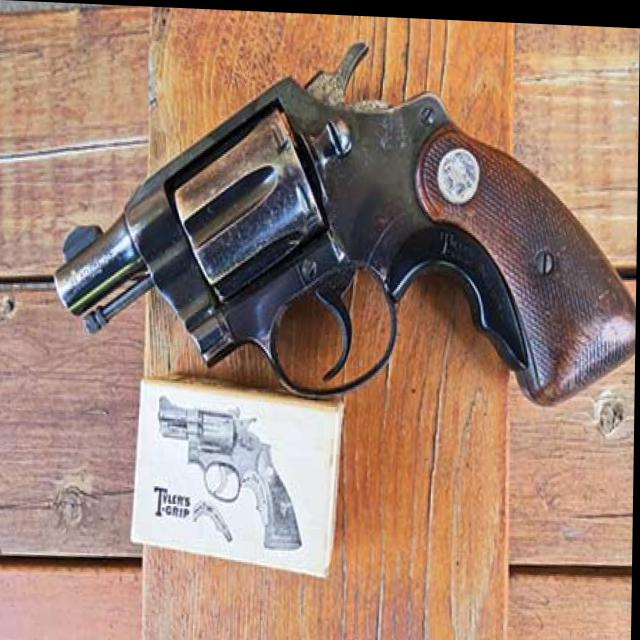handgun: (47, 26, 637, 405), (156, 390, 303, 549)
